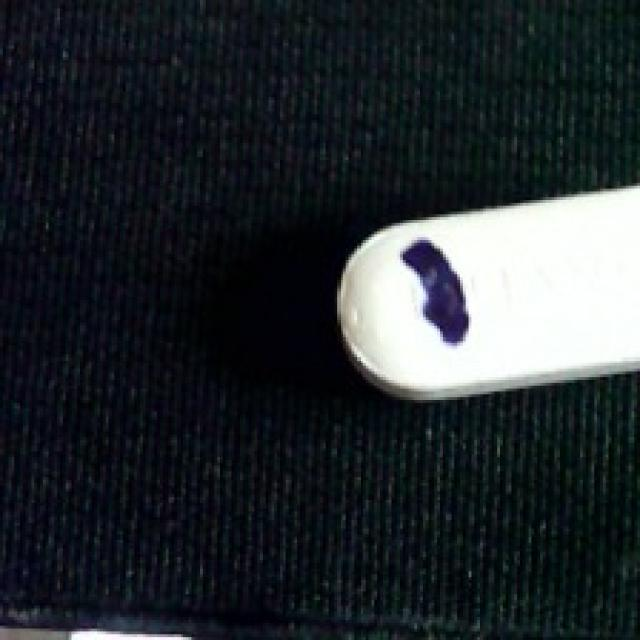defected: (323, 176, 640, 406)
